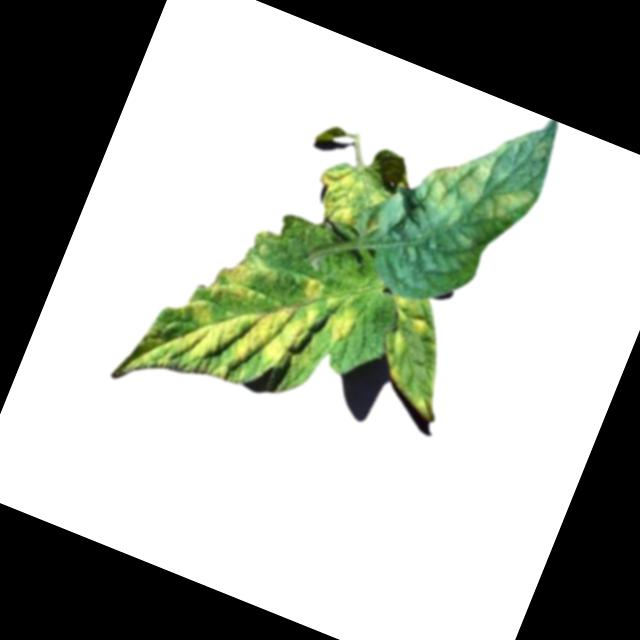Leaf_Mold: (115, 220, 364, 450), (413, 133, 547, 250), (308, 151, 397, 239), (381, 291, 434, 338)
